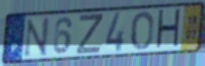4: (104, 11, 127, 54)
6: (52, 16, 74, 56)
H: (154, 7, 182, 52)
N: (22, 16, 51, 59)
O: (130, 10, 155, 52)
Z: (75, 13, 104, 56)
